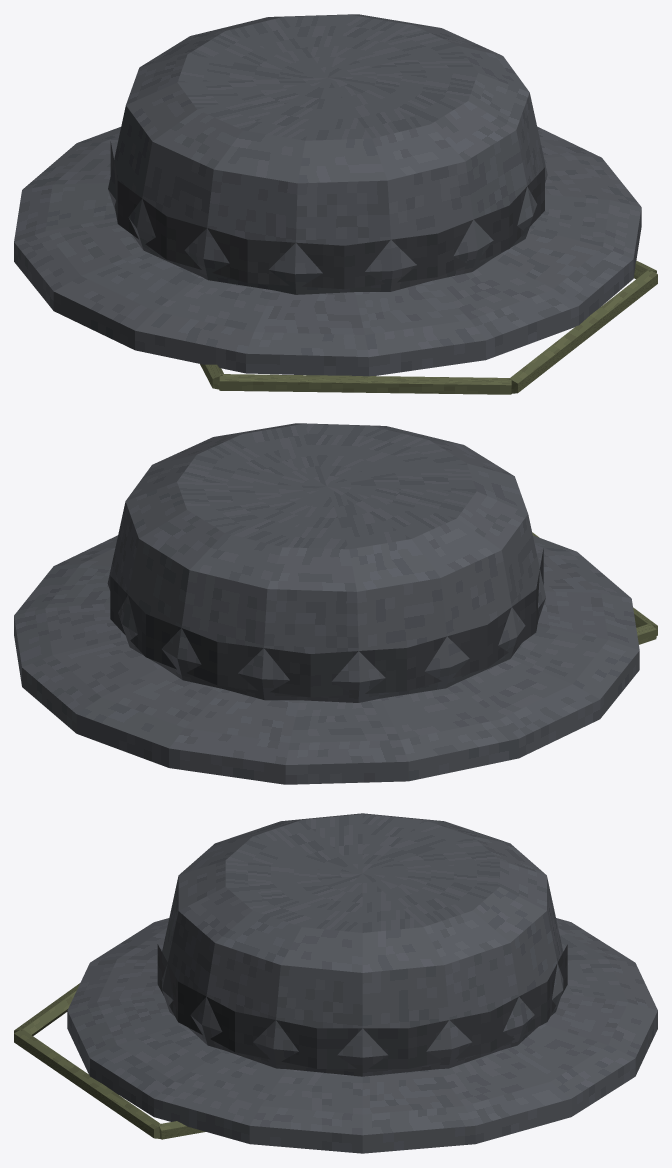
The model's file is hat_boonie.glb.
3 renders of one model, top to bottom at view 1: azimuth 30°, elevation 25°; view 2: azimuth 150°, elevation 25°; view 3: azimuth 270°, elevation 25°, orthographic. The views are drawn at different scales.
Parts seen in each view (by area): view 1: block_hat crown, block_shaped hat brim, block_hatband, block_chin cord 1, block_chin cord 2; view 2: block_hat crown, block_shaped hat brim, block_hatband; view 3: block_hat crown, block_shaped hat brim, block_hatband, block_chin cord 2, block_chin cord 1, block_chin cord 3.
Boxes of the visible parts, x1,y1,x2,y2 form: block_hat crown: [108, 14, 547, 294]; block_shaped hat brim: [14, 126, 641, 376]; block_hatband: [110, 141, 544, 289]; block_chin cord 1: [219, 374, 511, 394]; block_chin cord 2: [509, 269, 657, 393]; block_hat crown: [107, 423, 545, 702]; block_shaped hat brim: [14, 535, 639, 784]; block_hatband: [110, 548, 543, 697]; block_hat crown: [162, 813, 563, 1076]; block_shaped hat brim: [67, 918, 657, 1153]; block_hatband: [157, 944, 567, 1068]; block_chin cord 2: [14, 1029, 161, 1138]; block_chin cord 1: [14, 983, 79, 1035]; block_chin cord 3: [158, 1121, 205, 1139].
Bounding box in the file's own units: 0.2916 × 0.0927 × 0.318.
1 material, 1 textured.
